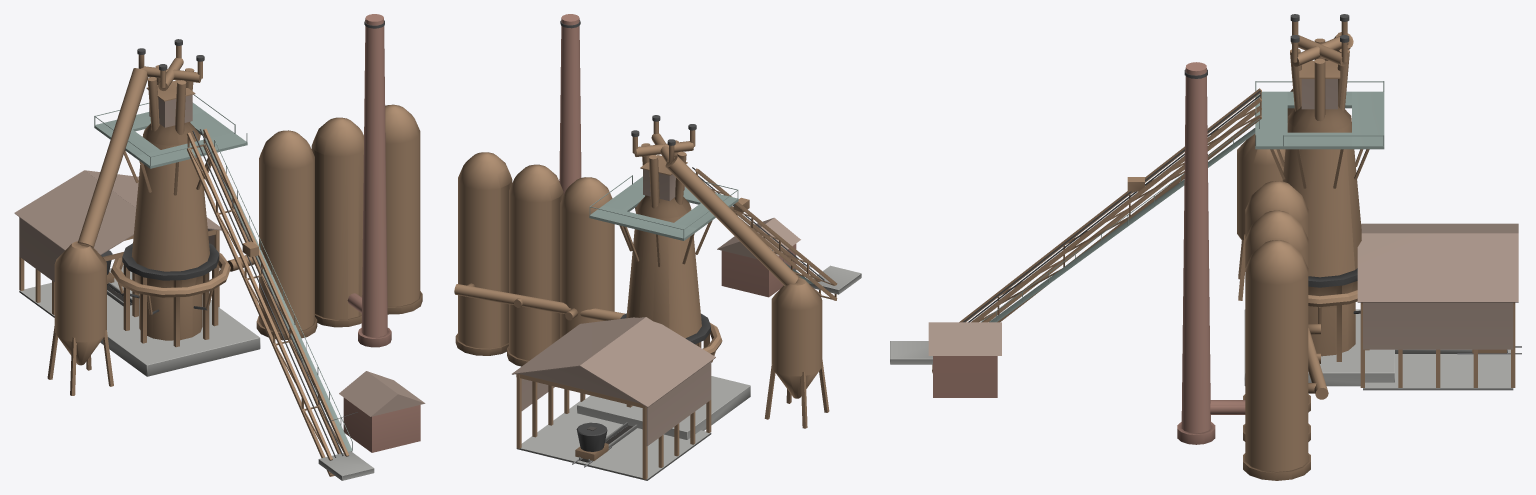
File: blast_furnace_lod1.glb
3 renders of one model, left to right at view 1: azimuth 30°, elevation 25°; view 2: azimuth 150°, elevation 25°; view 3: azimuth 270°, elevation 25°, orthographic. The views are drawn at different scales.
Parts seen in each view (by area): view 1: static; view 2: static; view 3: static.
Part boxes in pixels (x1=…): static: x1=14, y1=14, x2=425, y2=480; static: x1=454, y1=14, x2=861, y2=480; static: x1=890, y1=14, x2=1521, y2=480.
Bounding box in the file's own units: 45.05 × 39.62 × 58.8.
